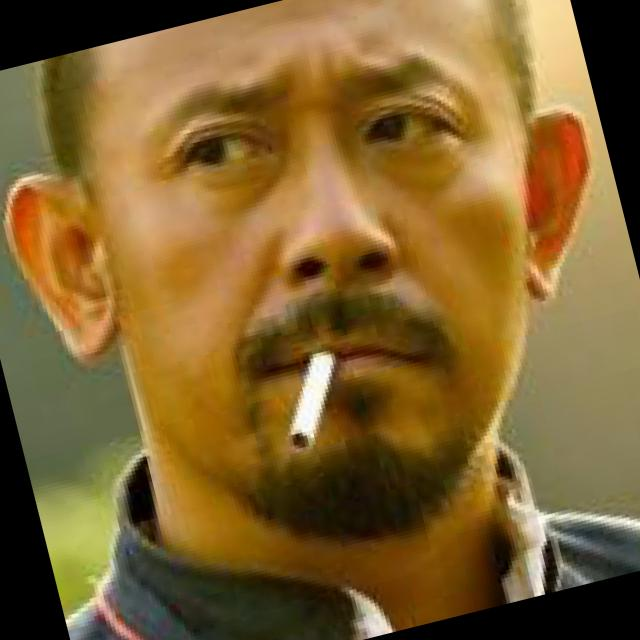smoke: (270, 349, 354, 451)
